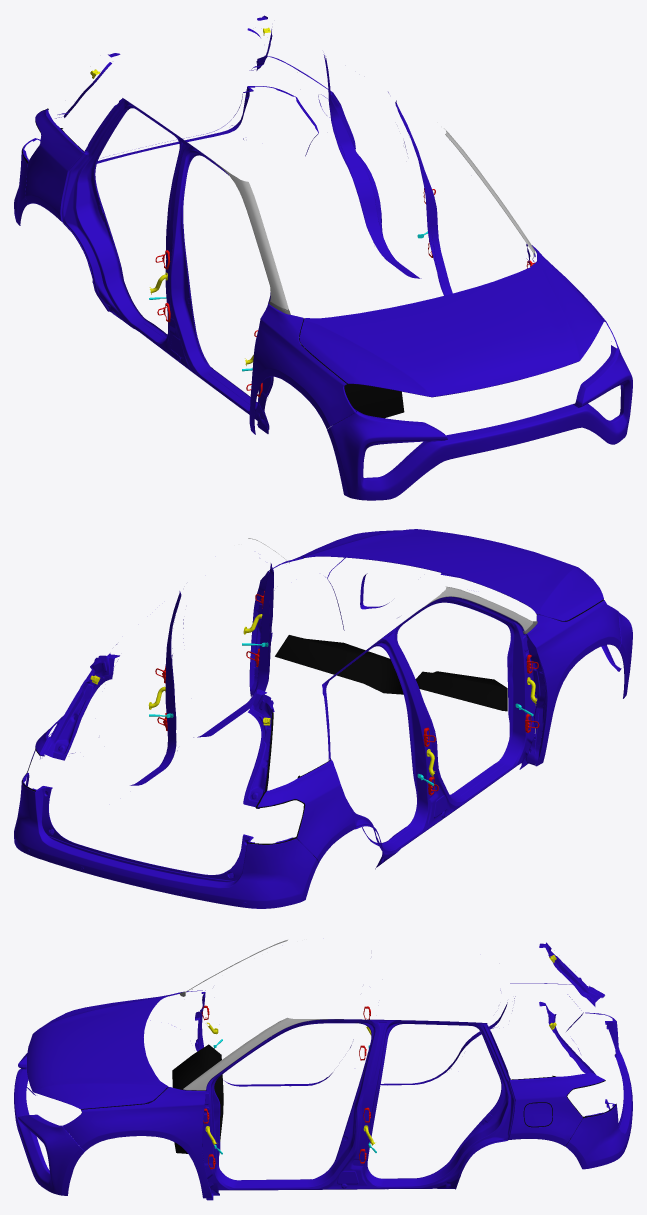
Rendered from TOYOTA_URBAN_CRUISER_PRE_EX_CARBODY_MESH.glb.
The picture shows the model from 3 angles, top to bottom: view 1: azimuth 30°, elevation 25°; view 2: azimuth 150°, elevation 25°; view 3: azimuth 270°, elevation 25°; orthographic projection. The views are drawn at different scales.
Visible parts, largest first — view 1: TOYOTA_URBAN_CRUISER_PRE_EX_CARBODY_MESH; view 2: TOYOTA_URBAN_CRUISER_PRE_EX_CARBODY_MESH; view 3: TOYOTA_URBAN_CRUISER_PRE_EX_CARBODY_MESH.
Part boxes in pixels (<box>): TOYOTA_URBAN_CRUISER_PRE_EX_CARBODY_MESH: <box>14,15,632,500</box>; TOYOTA_URBAN_CRUISER_PRE_EX_CARBODY_MESH: <box>14,529,632,908</box>; TOYOTA_URBAN_CRUISER_PRE_EX_CARBODY_MESH: <box>14,940,632,1200</box>.
Size of the model in its own units: 1.78 by 1.23 by 4.01.
